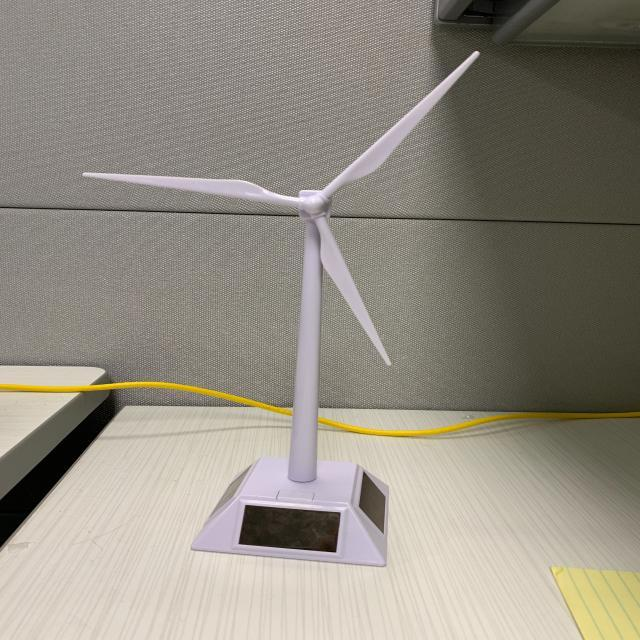solid-blade: (324, 51, 479, 196), (315, 218, 391, 364), (82, 172, 298, 208)
